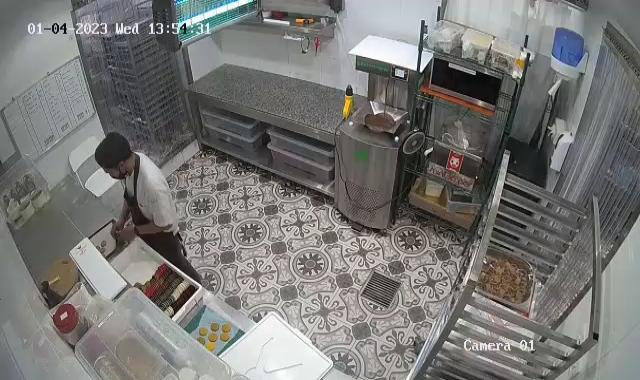no_hairnet: (94, 132, 132, 170)
